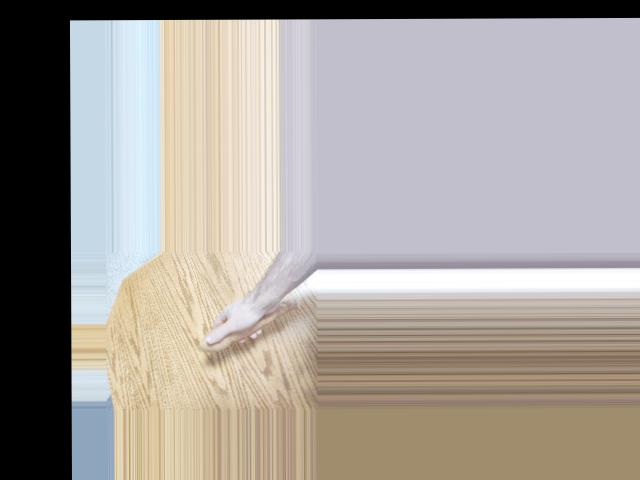sweet_potato: (198, 296, 305, 355)
